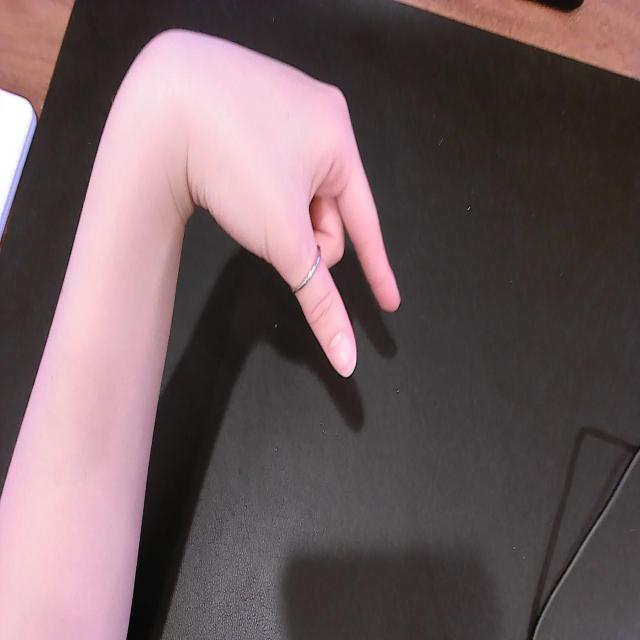Q: (162, 26, 404, 384)
